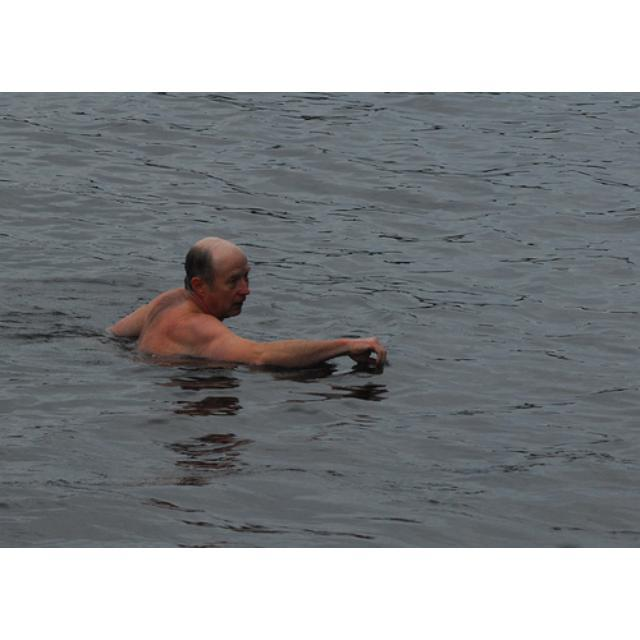human: (109, 235, 388, 369)
